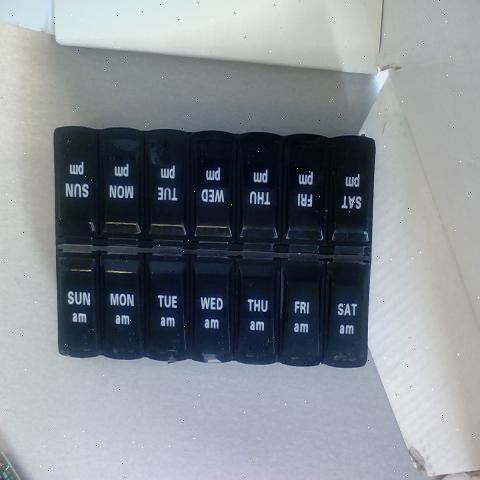FRI-am: (278, 256, 322, 370)
FRI-pm: (284, 141, 325, 250)
MON-am: (100, 250, 144, 365)
MON-pm: (100, 133, 142, 247)
SAT-am: (323, 252, 369, 370)
SAT-pm: (328, 136, 368, 242)
SUN-am: (57, 250, 97, 356)
SUN-pm: (53, 126, 96, 240)
THU-am: (232, 253, 276, 366)
THU-pm: (240, 134, 282, 244)
TUE-am: (144, 131, 188, 246)
TUE-pm: (144, 251, 188, 359)
WED-am: (190, 249, 236, 362)
WED-pm: (196, 136, 236, 243)
